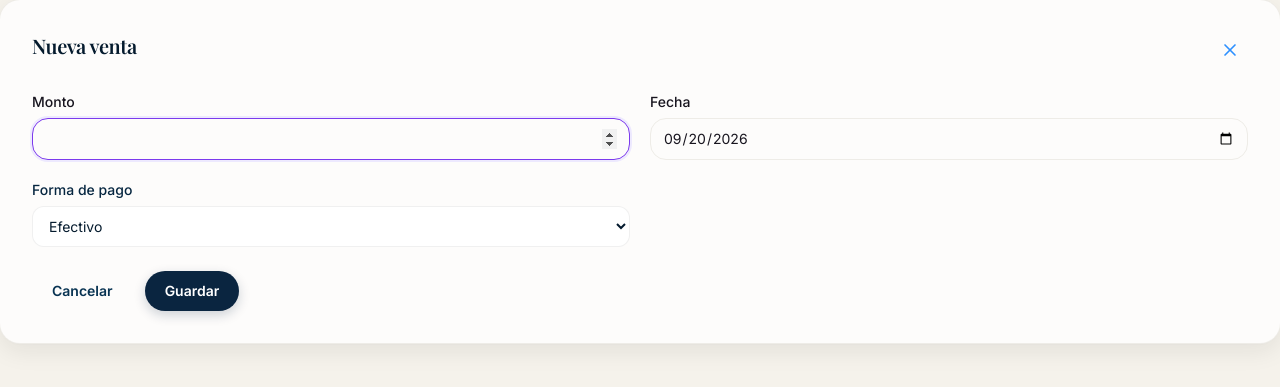
Test case: VentaForm — client validation names the rule (task 6.5) › refuses a non-positive amount, naming the rule (triangulation)
Type "2026-08-01" into the date field with id "fecha" at (949, 139), box top-left (650, 118), bottom-right (1248, 160)
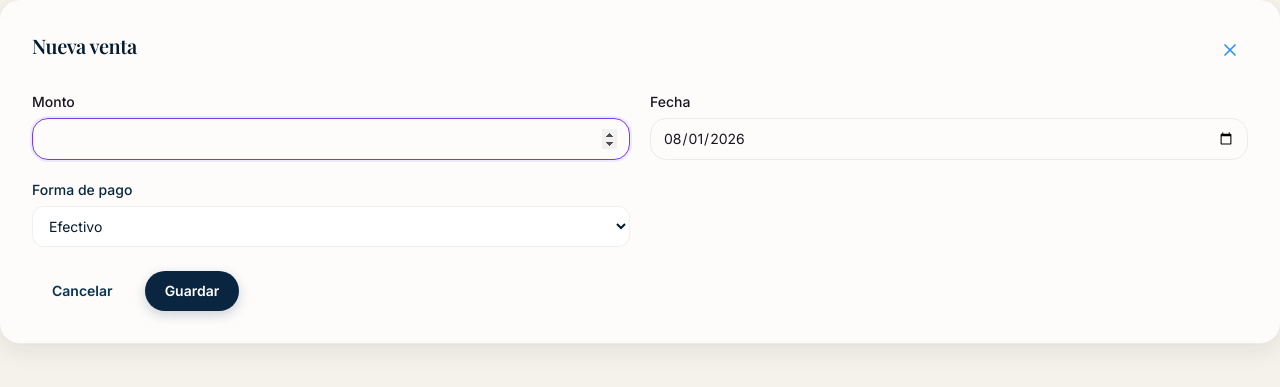
Type "0" into the number field labelled "Monto" at (331, 139), box top-left (32, 118), bottom-right (630, 160)
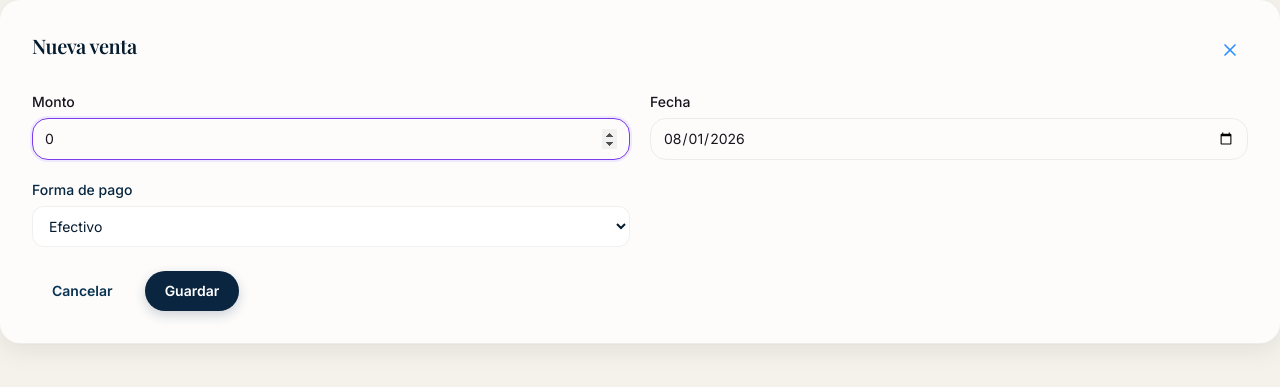
Click the button "Guardar" at (192, 291), box top-left (145, 271), bottom-right (239, 311)
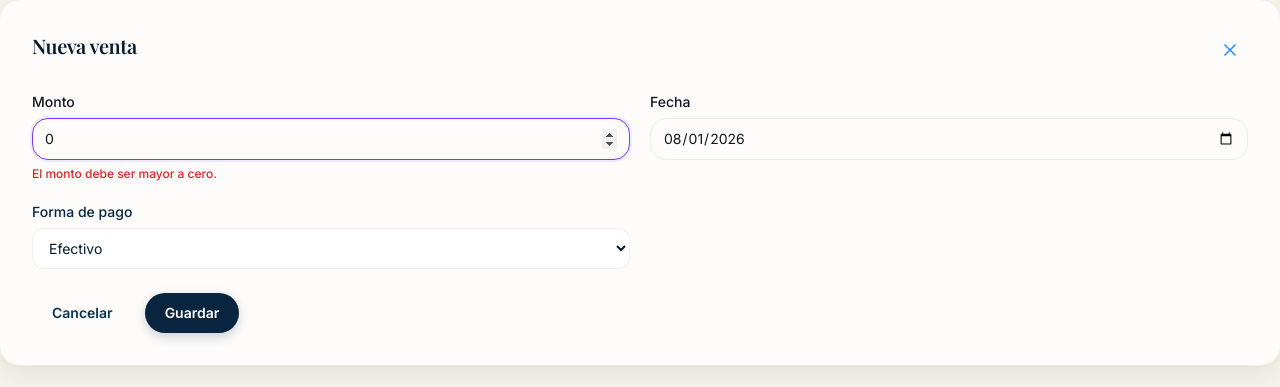
Expected: the message reads "El monto debe ser mayor a cero.", top-left (32, 166), bottom-right (217, 181)
